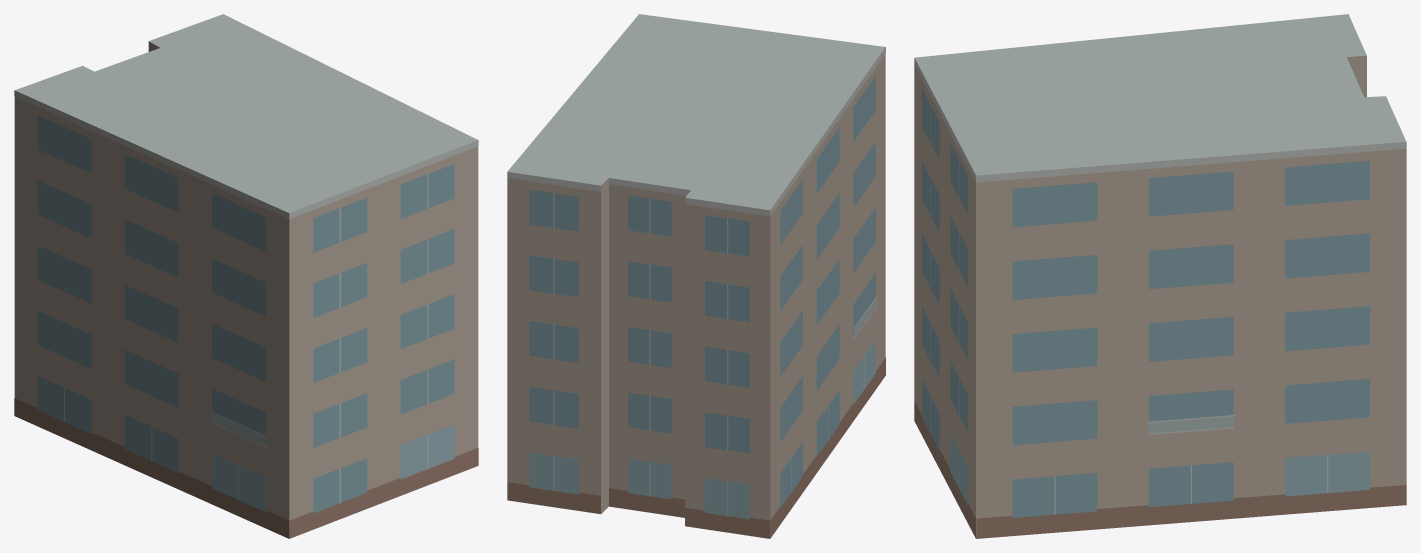
Rendered from survey-upis-32948660.glb.
3 renders of one model, left to right at view 1: azimuth 30°, elevation 25°; view 2: azimuth 150°, elevation 25°; view 3: azimuth 270°, elevation 25°, orthographic. The views are drawn at different scales.
Parts seen in each view (by area): view 1: survey-upis-32948660.tmp; view 2: survey-upis-32948660.tmp; view 3: survey-upis-32948660.tmp.
Boxes of the visible parts, bbox=[...] form: survey-upis-32948660.tmp: bbox=[14, 14, 478, 538]; survey-upis-32948660.tmp: bbox=[507, 14, 885, 538]; survey-upis-32948660.tmp: bbox=[914, 14, 1406, 538].
Size of the model in its own units: 12.32 by 12.9 by 15.85.
